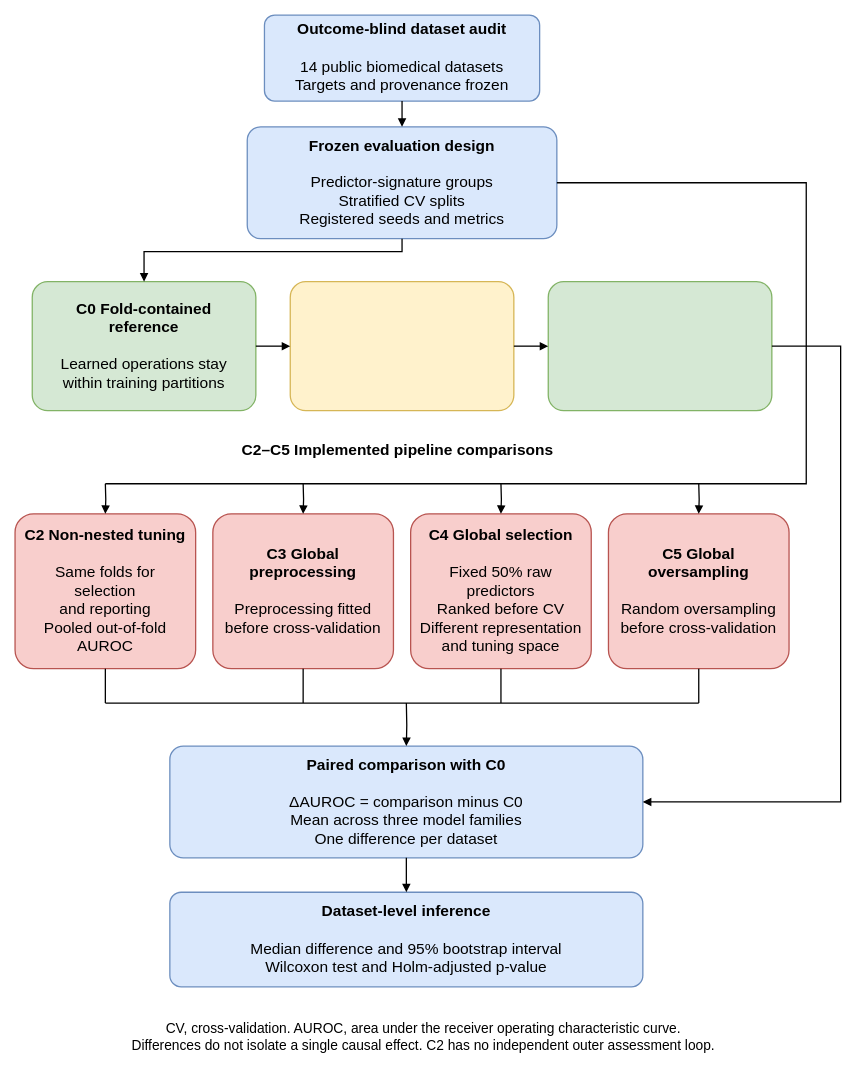
The diagram is 863 pixels wide and 1079 high, and some of its shapes have lost their labels. Each missing label, with the centre of its shape:
"C0 estimates Mean outer-fold AUROC For each dataset and model" goes at point 659,346.
"Repeated nested CV Inner tuning and thresholding Outer assessment" goes at point 401,346.
